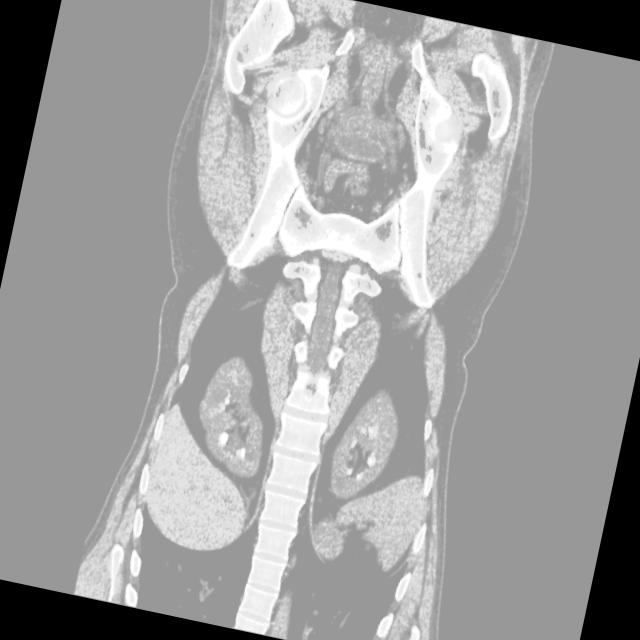STONE: (60, 325, 538, 610)
